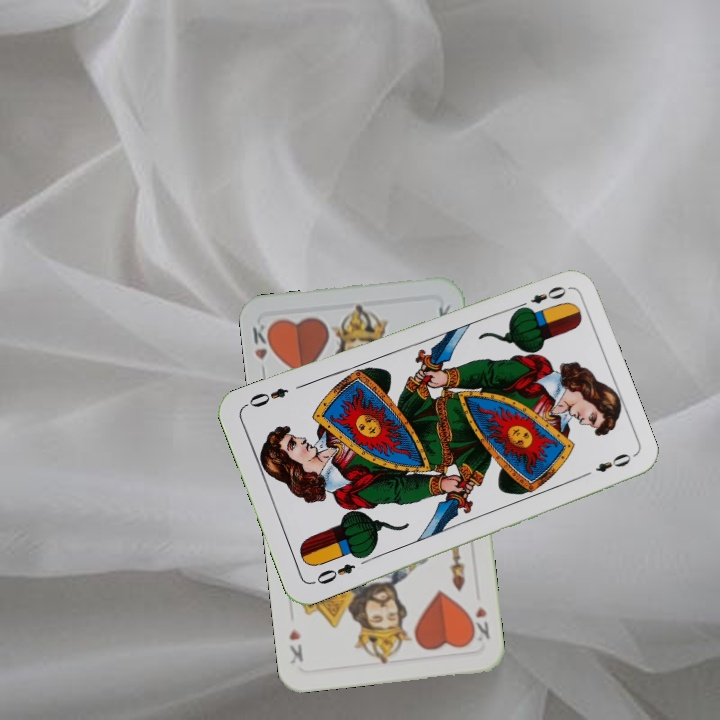EO: (513, 282, 569, 314), (308, 559, 358, 587)
HK: (248, 320, 277, 379), (465, 602, 492, 644)
